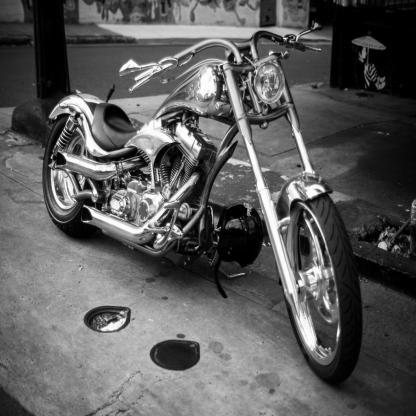moto: (28, 33, 378, 376)
